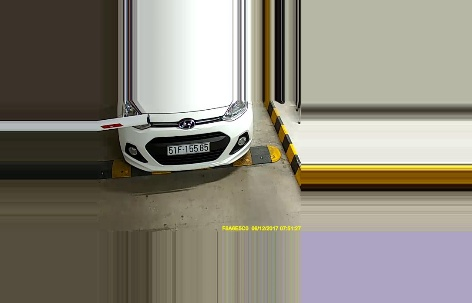plate: (166, 141, 212, 154)
